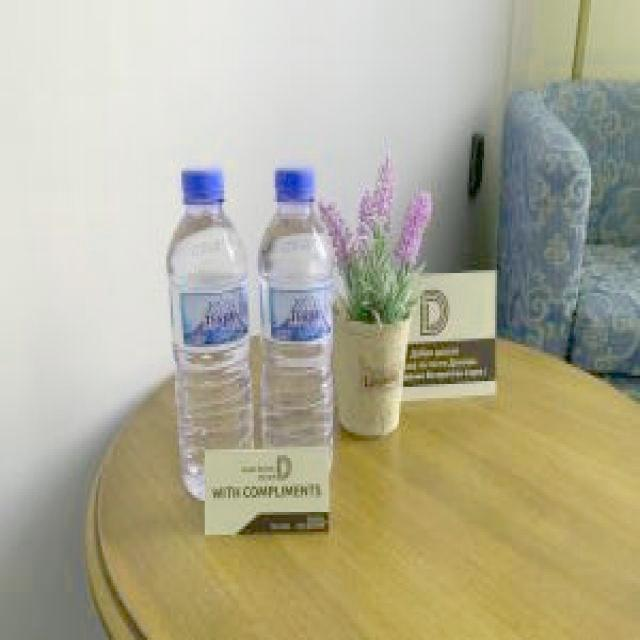bottle: (166, 165, 255, 501), (257, 162, 340, 472)
